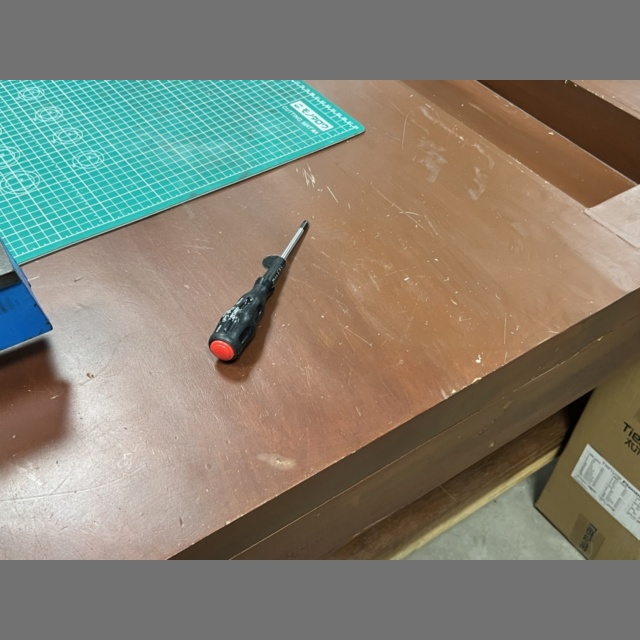screwdriver: (208, 220, 308, 362)
